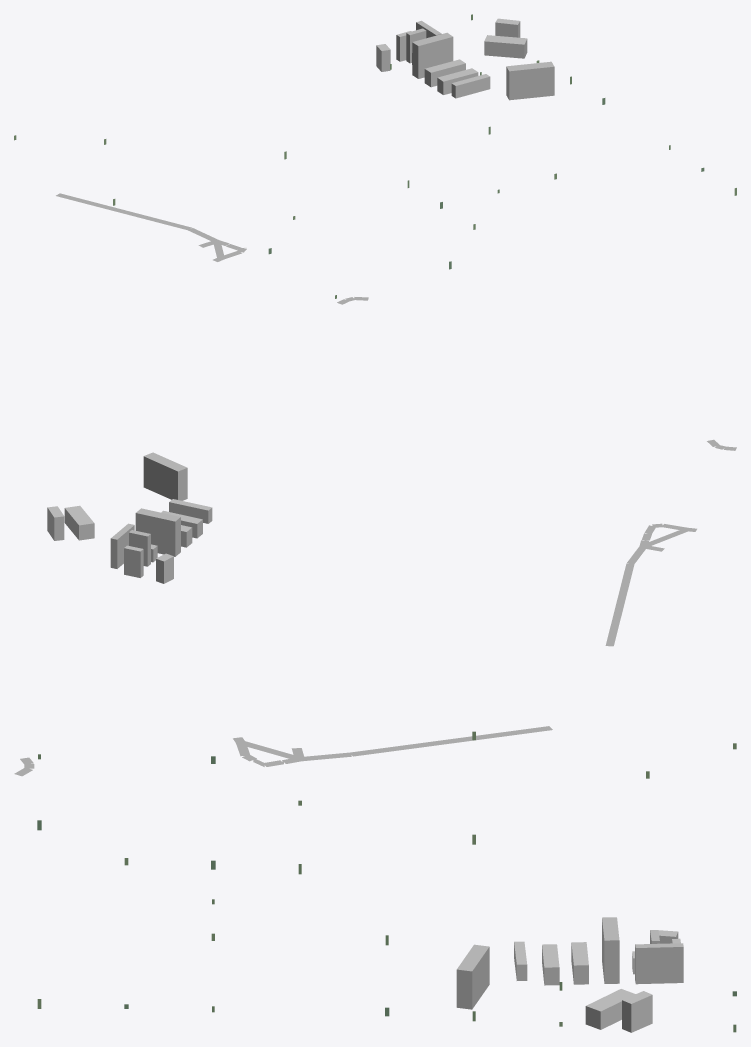
3 renders of one model, top to bottom at view 1: azimuth 30°, elevation 25°; view 2: azimuth 150°, elevation 25°; view 3: azimuth 270°, elevation 25°, orthographic. The views are drawn at different scales.
Size of the model in its own units: 521 by 44.93 by 499.
